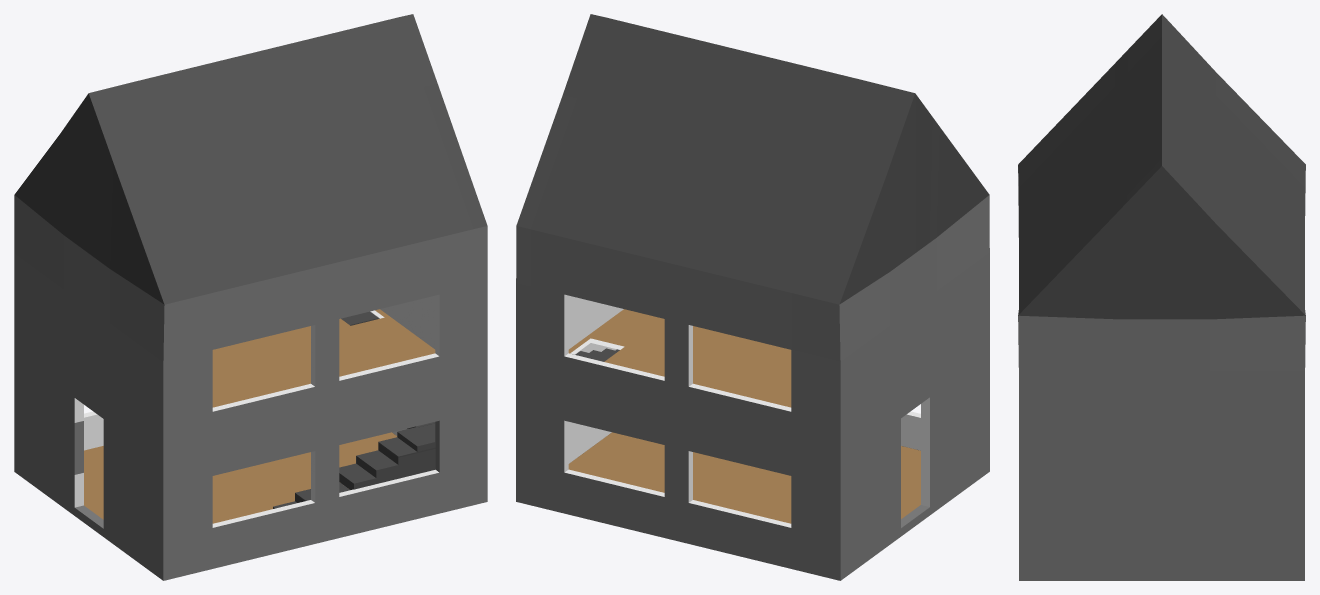
Rendered from house.fbx.
3 renders of one model, left to right at view 1: azimuth 30°, elevation 25°; view 2: azimuth 150°, elevation 25°; view 3: azimuth 270°, elevation 25°, orthographic. The views are drawn at different scales.
Parts seen in each view (by area): view 1: Cube.001, Cube.002; view 2: Cube.001; view 3: Cube.001.
Part boxes in pixels (x1,y1,x2,y2): Cube.001: (14, 14, 487, 580); Cube.002: (273, 427, 435, 508); Cube.001: (516, 14, 989, 580); Cube.001: (1018, 14, 1305, 580).
Bounding box in the file's own units: 314 × 401 × 252.
